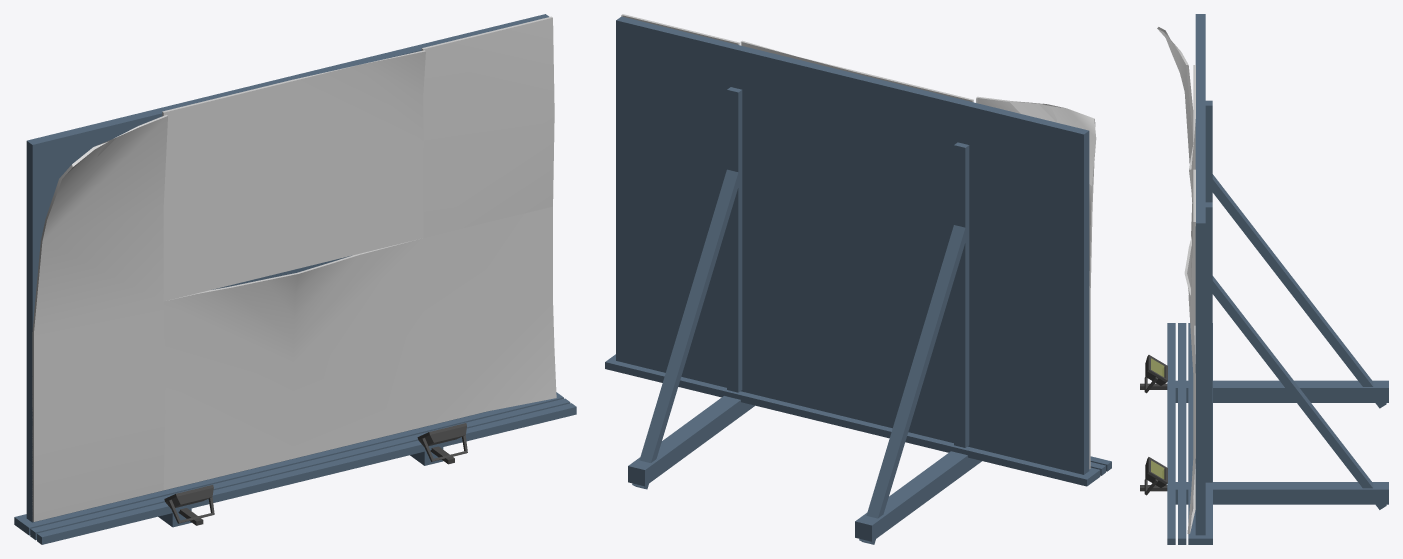
File: Blockout_Advertising_01.FBX
The picture shows the model from 3 angles, left to right: view 1: azimuth 30°, elevation 25°; view 2: azimuth 150°, elevation 25°; view 3: azimuth 270°, elevation 25°; orthographic projection. The views are drawn at different scales.
Parts seen in each view (by area): view 1: Blockout_Advertising_01; view 2: Blockout_Advertising_01; view 3: Blockout_Advertising_01.
Boxes of the visible parts, x1,y1,x2,y2 form: Blockout_Advertising_01: (14, 14, 576, 544); Blockout_Advertising_01: (605, 14, 1111, 544); Blockout_Advertising_01: (1140, 14, 1388, 544).
Size of the model in its own units: 1524 by 1121 by 743.
